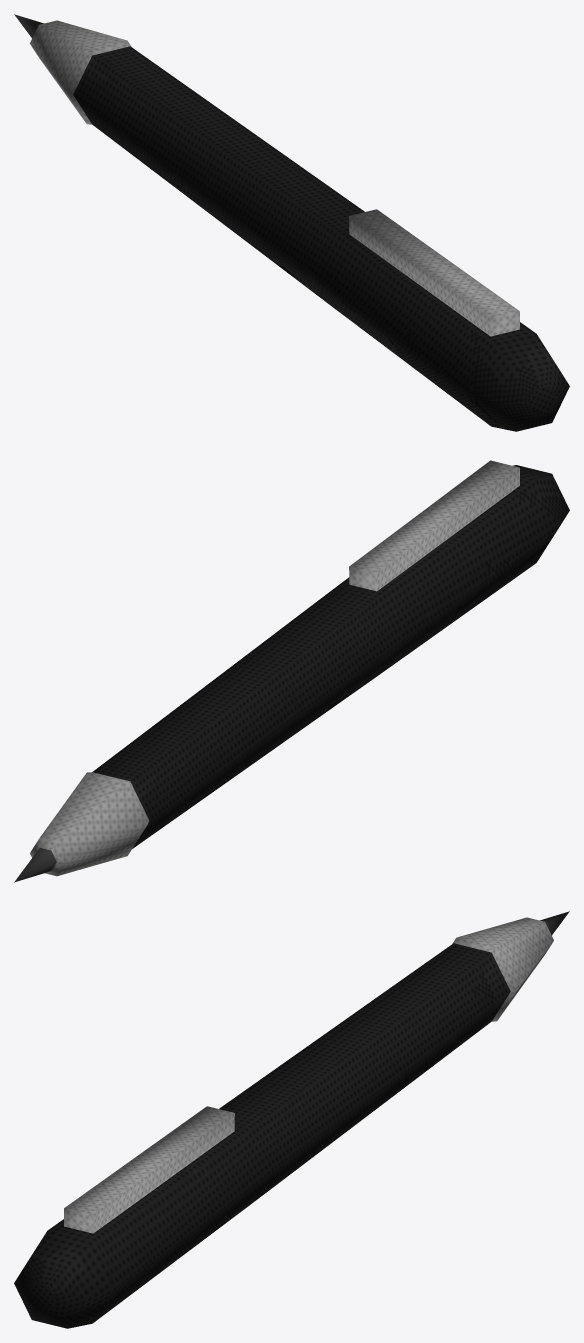
The model's file is pen_01.fbx.
3 views of the same model, one above another, from view 1: azimuth 30°, elevation 25°; view 2: azimuth 150°, elevation 25°; view 3: azimuth 330°, elevation 25° (orthographic).
Visible parts, largest first — view 1: pen; view 2: pen; view 3: pen.
Boxes of the visible parts, box(x1,y1,x2,y2) form: pen: box(14, 14, 569, 431); pen: box(14, 460, 569, 882); pen: box(14, 911, 569, 1328).
Bounding box in the file's own units: 13.87 × 14.66 × 140.
